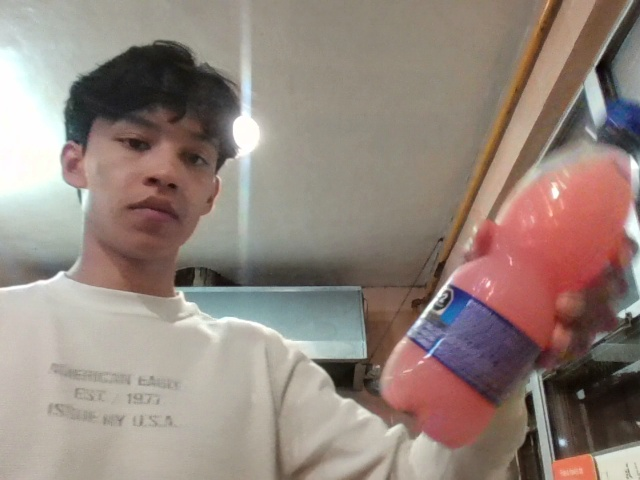botella: (329, 57, 640, 454)
